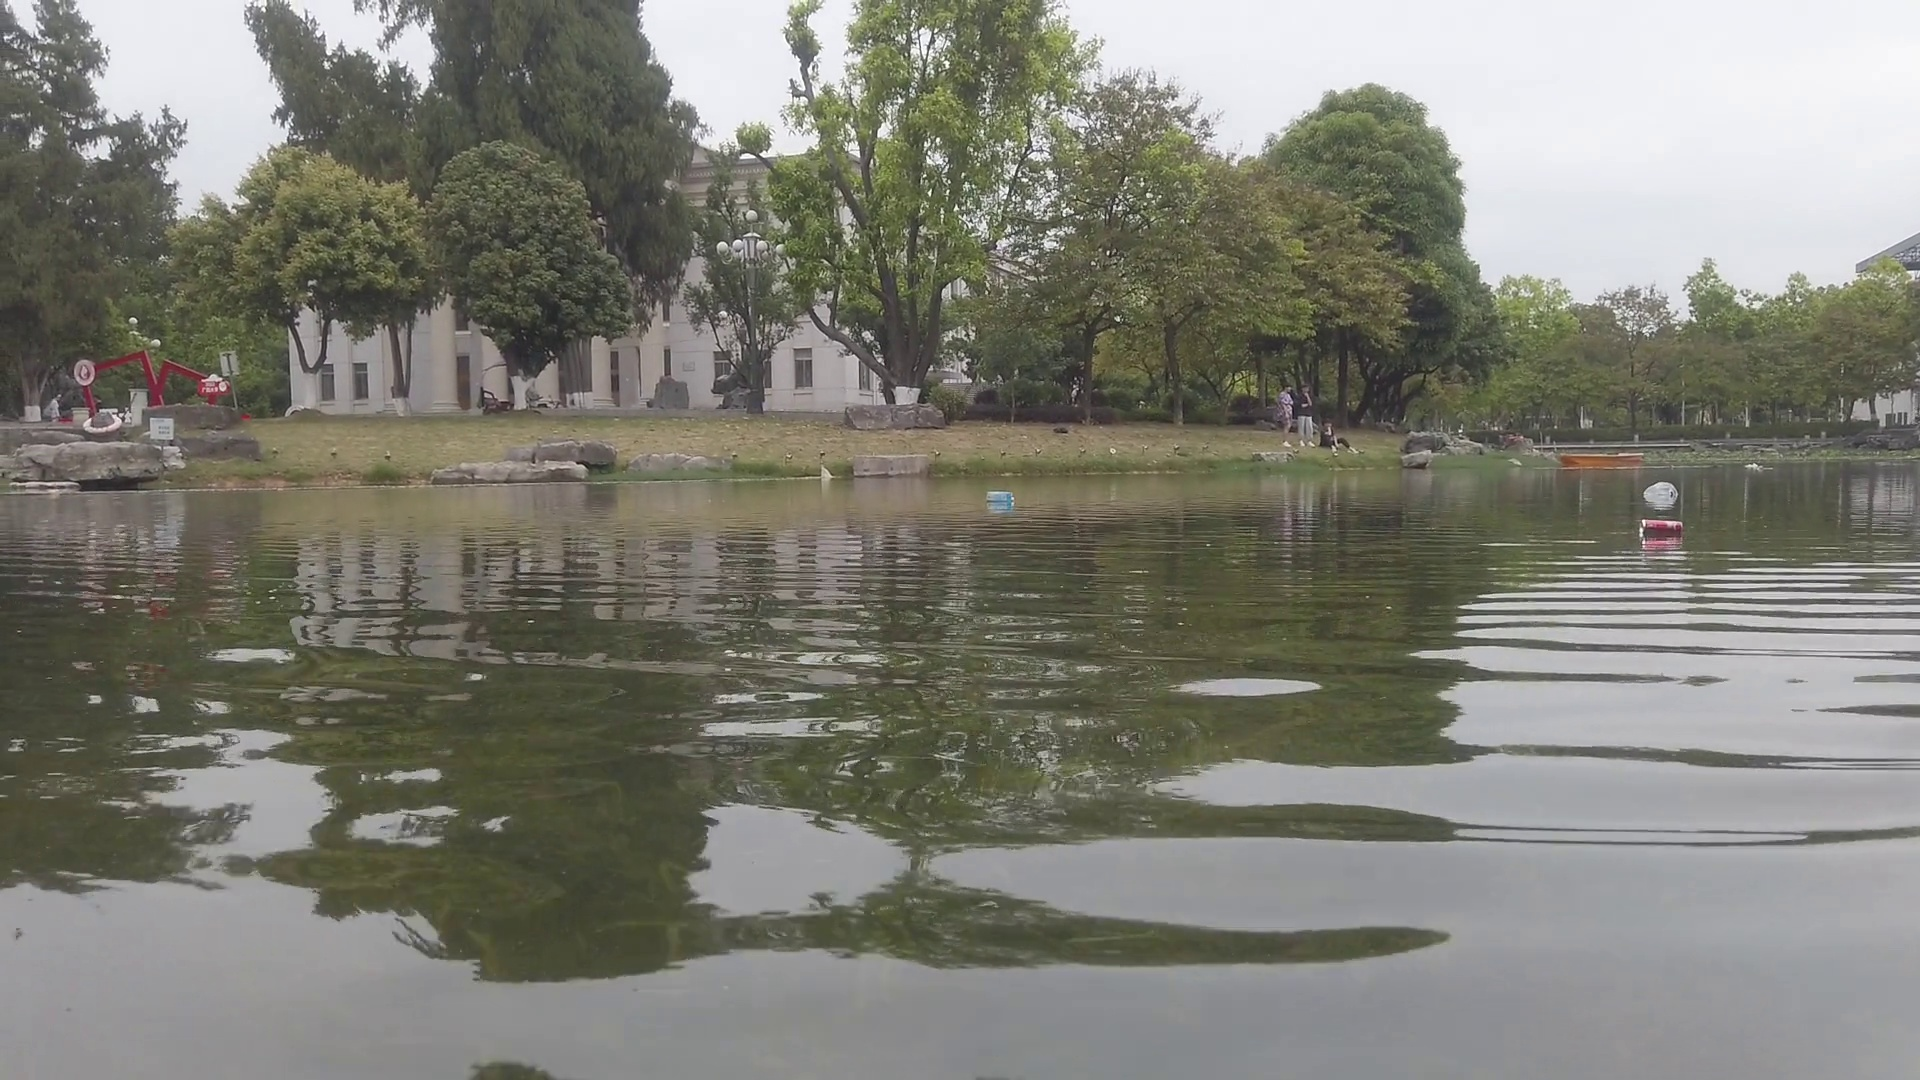bottle: (1642, 520, 1685, 535)
carton: (986, 488, 1015, 505)
plastic: (1646, 481, 1679, 501), (1746, 462, 1763, 469)
